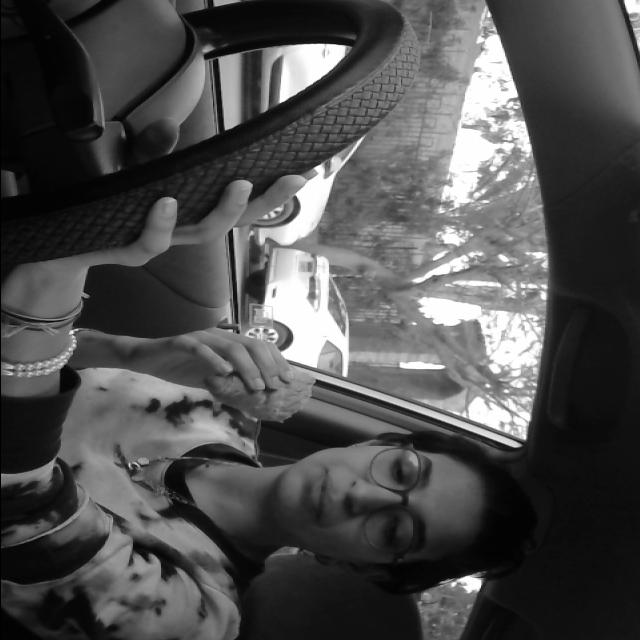eating: (203, 358, 335, 432)
